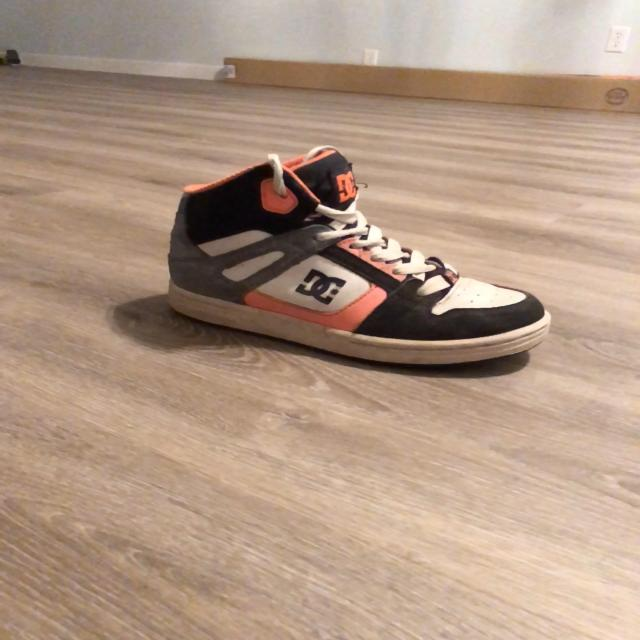shoe: (166, 149, 552, 369)
